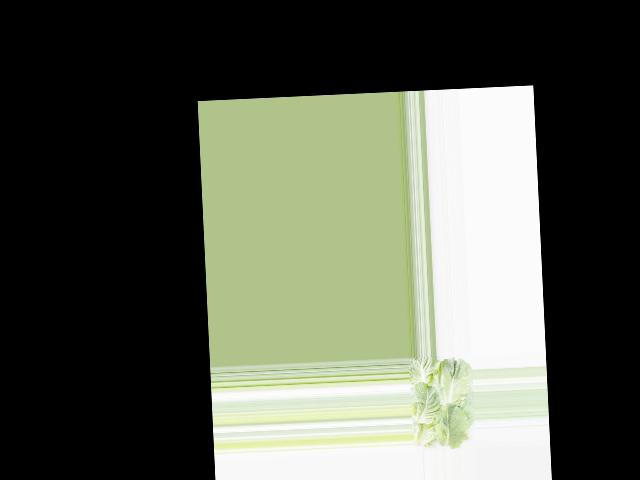lettuce: (408, 356, 473, 448)
